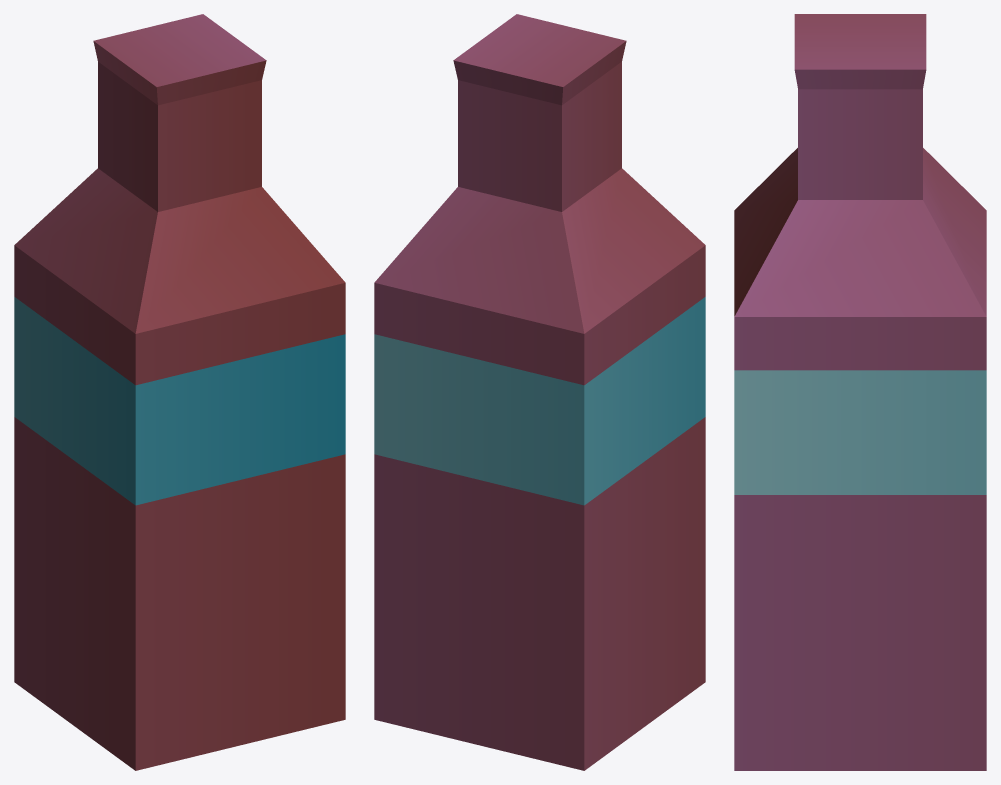
File: B01_bouteille_3_b.fbx
The picture shows the model from 3 angles, left to right: view 1: azimuth 30°, elevation 25°; view 2: azimuth 150°, elevation 25°; view 3: azimuth 270°, elevation 25°; orthographic projection. The views are drawn at different scales.
Visible parts, largest first — view 1: B01_bouteille_3_b; view 2: B01_bouteille_3_b; view 3: B01_bouteille_3_b.
Boxes of the visible parts, x1,y1,x2,y2 form: B01_bouteille_3_b: [14, 14, 345, 770]; B01_bouteille_3_b: [374, 14, 705, 770]; B01_bouteille_3_b: [734, 14, 986, 770].
Bounding box in the file's own units: 8.44 × 24.97 × 8.44.
